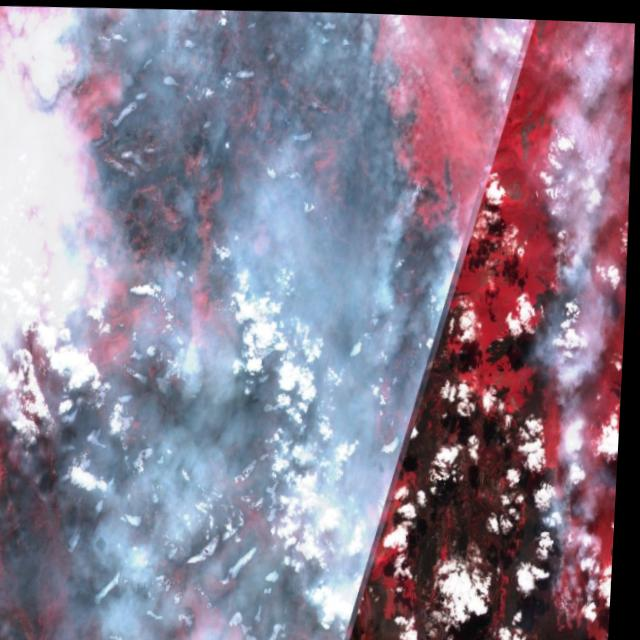fire: (552, 517, 595, 621), (407, 163, 466, 219)
